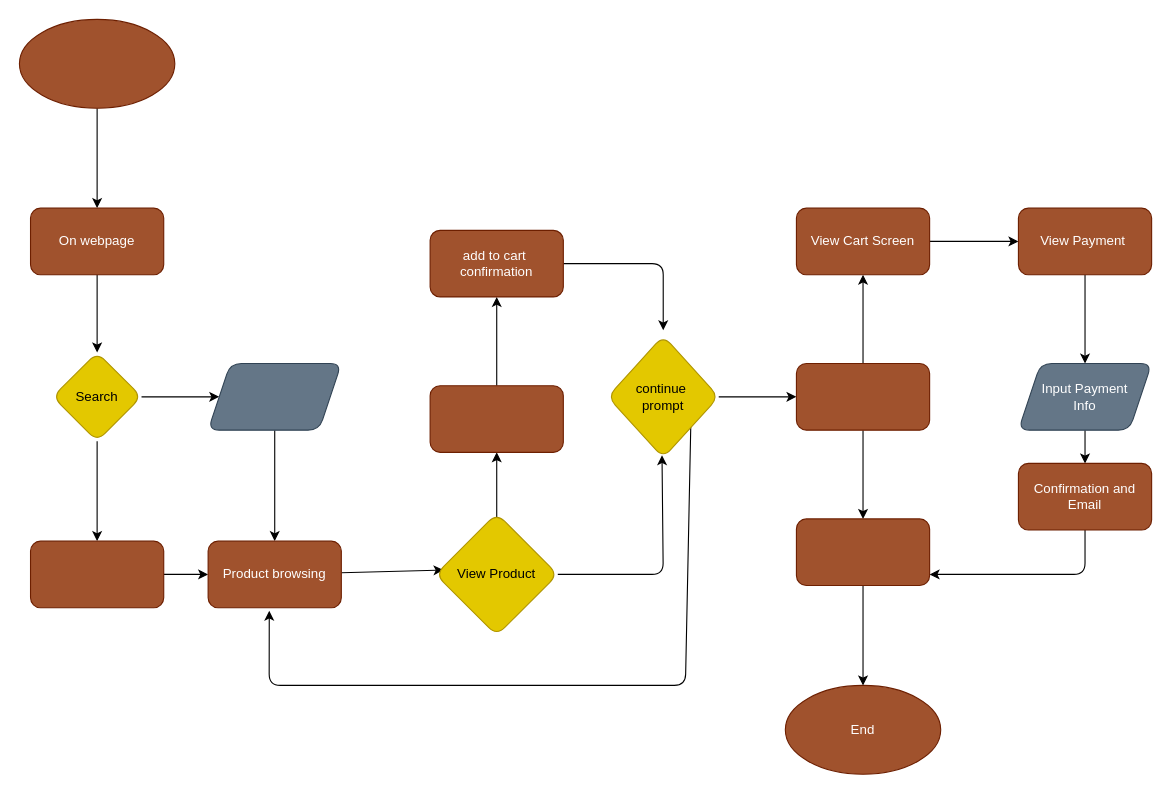
Some shapes in this 1171 by 794 pixel diagram are drawn without their labels. The box of each missing label's shape, as (x1, y1, x2, y2) in pixels:
Add to Cart: (429, 385, 563, 452)
Checkout Prompt: (795, 362, 930, 430)
Custom Search: (207, 362, 341, 430)
Home Page Search: (29, 540, 164, 608)
Leave Site: (795, 518, 930, 586)
Start: (18, 18, 175, 108)
